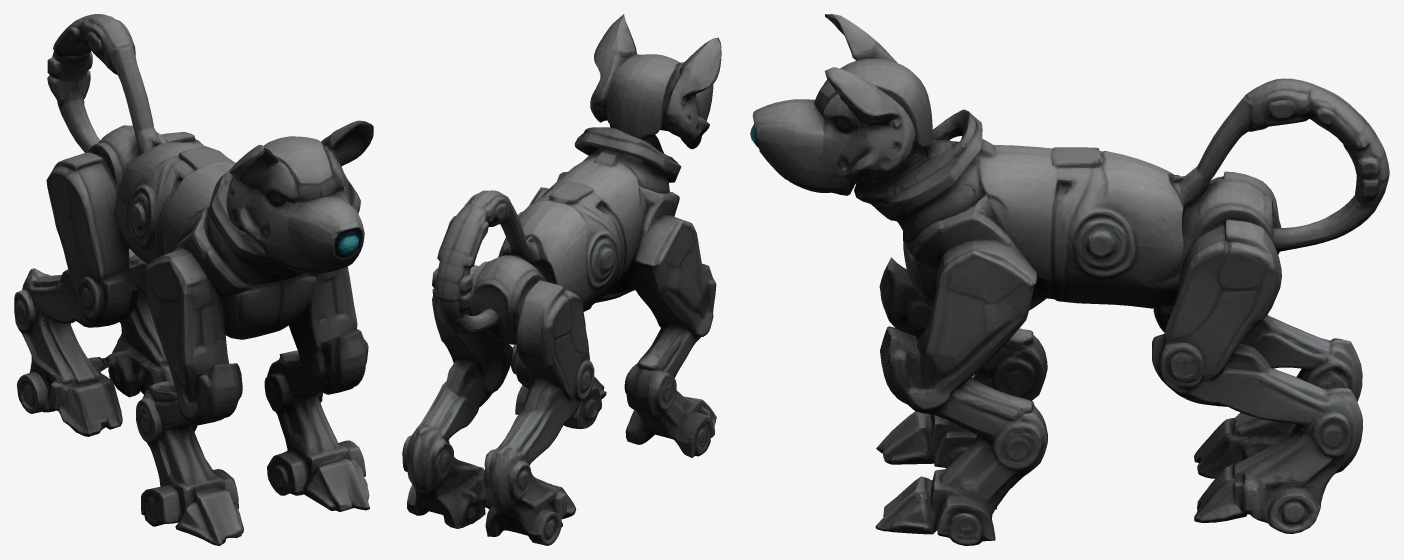
File: std_trellis_robot_dog.glb
3 renders of one model, left to right at view 1: azimuth 30°, elevation 25°; view 2: azimuth 150°, elevation 25°; view 3: azimuth 270°, elevation 25°, orthographic. The views are drawn at different scales.
Parts seen in each view (by area): view 1: world; view 2: world; view 3: world.
Part boxes in pixels (<box>): world: <box>14,14,373,545</box>; world: <box>402,14,721,545</box>; world: <box>750,14,1389,545</box>.
Size of the model in its own units: 0.4014 by 0.7799 by 0.9989.
1 material, 1 textured.
